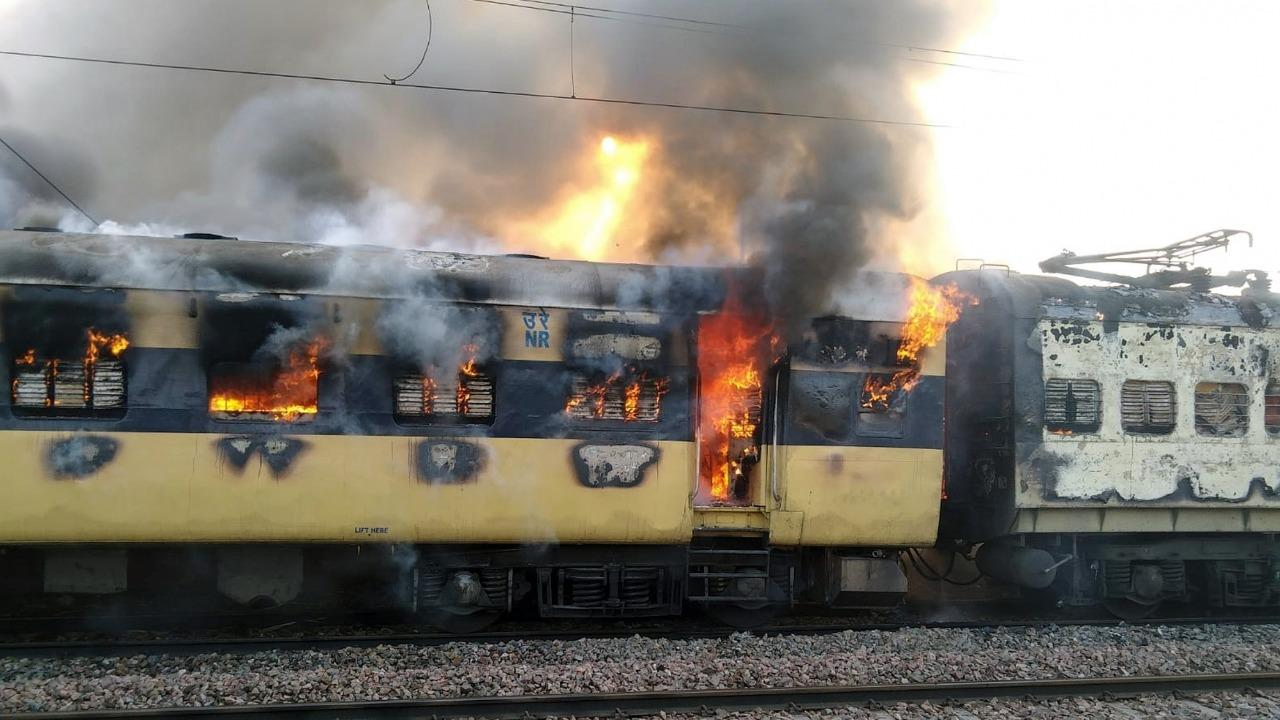fire: (696, 314, 763, 507), (208, 341, 327, 418), (896, 277, 970, 364), (860, 370, 921, 406), (456, 343, 480, 415), (567, 378, 609, 418), (84, 330, 129, 364), (622, 377, 637, 421), (420, 379, 438, 415), (652, 376, 667, 413), (17, 350, 38, 373)
smoke: (4, 0, 942, 251), (617, 251, 895, 318), (375, 252, 502, 378), (261, 254, 372, 357), (86, 252, 260, 300), (578, 352, 624, 374)
